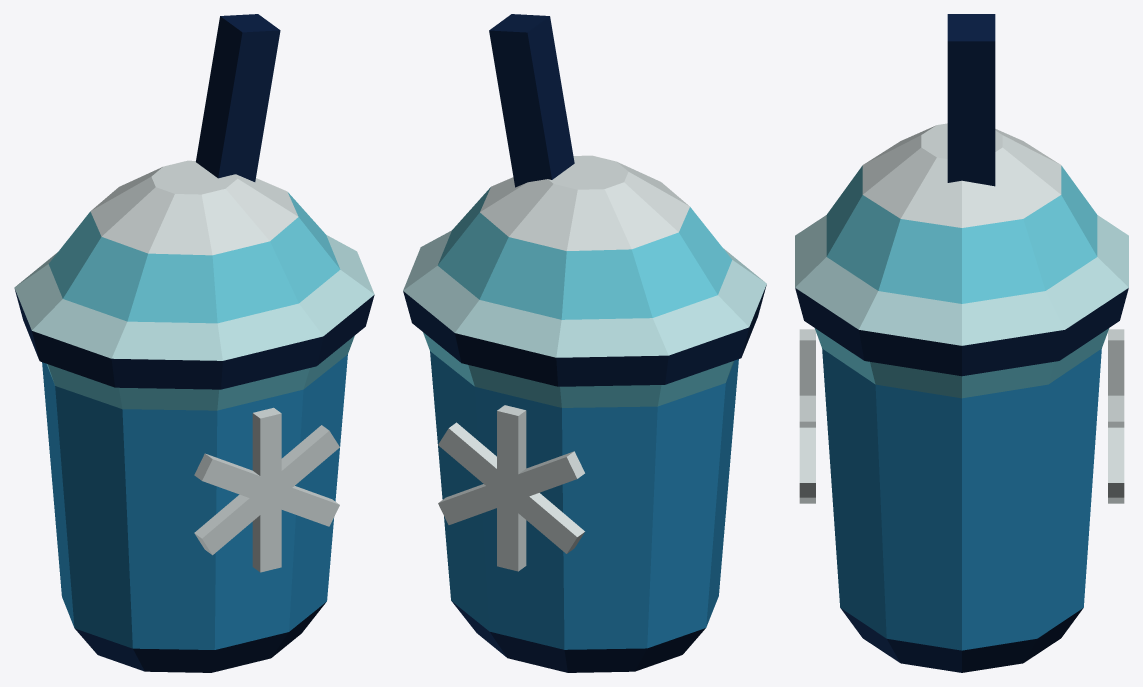
The model's file is CalmSlush.gltf.
3 renders of one model, left to right at view 1: azimuth 30°, elevation 25°; view 2: azimuth 150°, elevation 25°; view 3: azimuth 270°, elevation 25°, orthographic. The views are drawn at different scales.
Visible parts, largest first — view 1: CalmSlush; view 2: CalmSlush; view 3: CalmSlush.
Boxes of the visible parts, <box> form: CalmSlush: <box>14,14,374,672</box>; CalmSlush: <box>403,14,766,672</box>; CalmSlush: <box>795,14,1128,672</box>.
Bounding box in the file's own units: 0.84 × 1.47 × 0.7038.
